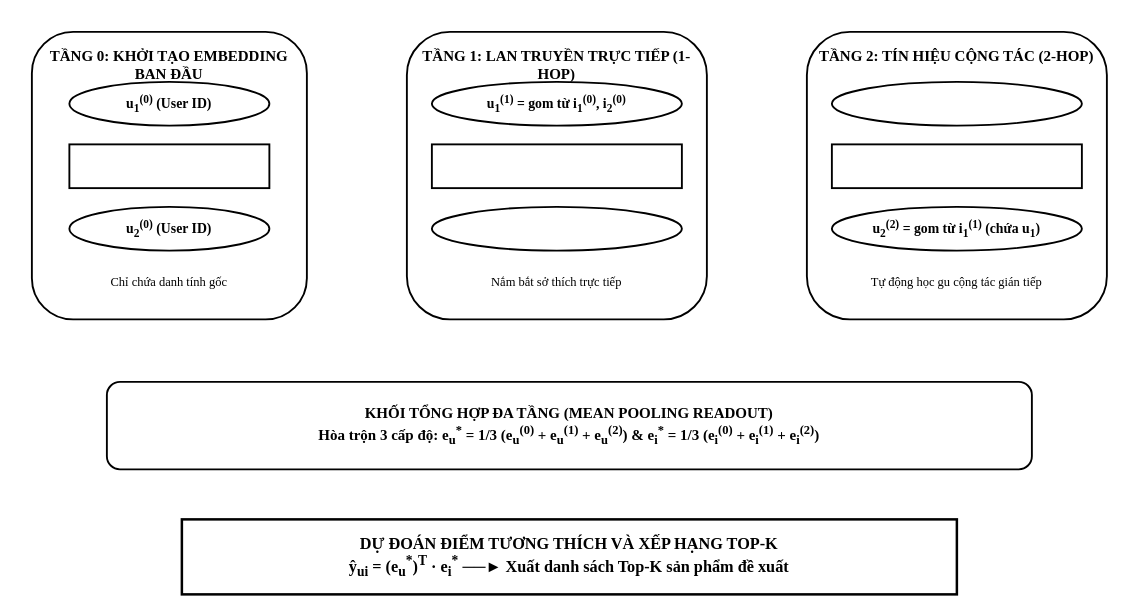
Image size: 1129x616. Some labels were removed from this diagram. The shapes that lost their labels are listed below. From the top down, each one's centre as x and y in pixels, then its label:
At point 956,103: "u 1 (2) = gom từ i 1 (1) (chứa u 2 )".
At point 169,165: "i 1 (0) (Item ID)".
At point 556,165: "i 1 (1) = gom từ u 1 (0) , u 2 (0)".
At point 956,165: "i 1 (2) = gom từ u 1 (1) , u 2 (1)".
At point 556,228: "u 2 (1) = gom từ i 1 (0) , i 3 (0)".
